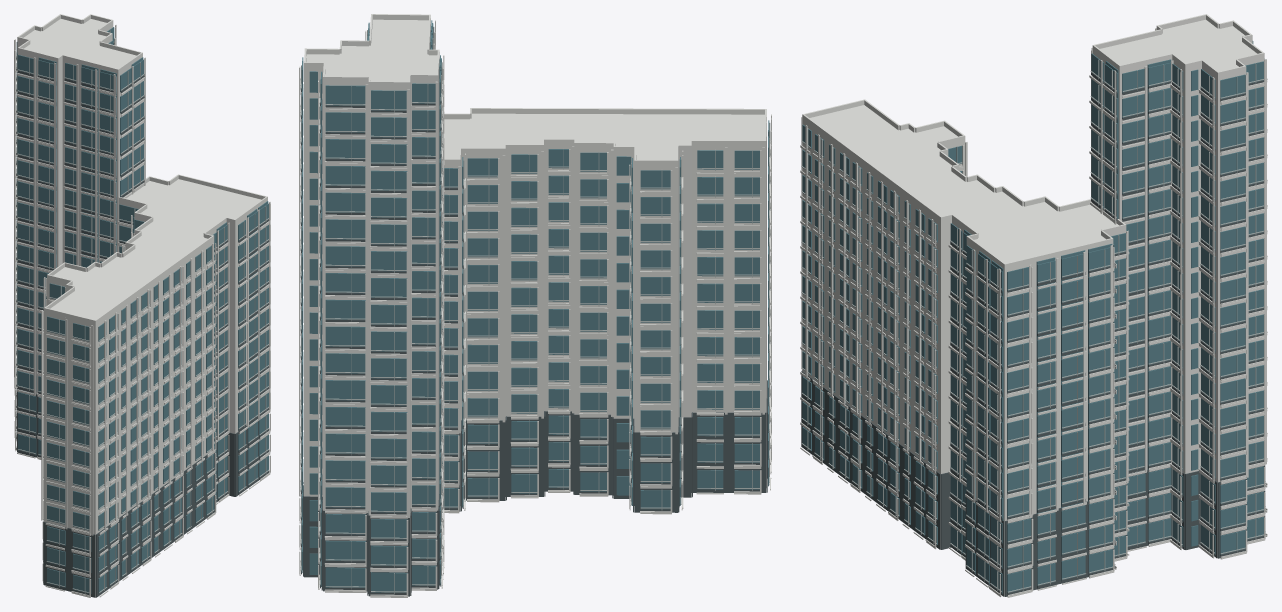
File: bespoke-acro-riverpark-107.glb
3 views of the same model, side by side, from view 1: azimuth 30°, elevation 25°; view 2: azimuth 150°, elevation 25°; view 3: azimuth 270°, elevation 25° (orthographic). The views are drawn at different scales.
Parts seen in each view (by area): view 1: 107_R00_body, 107_R00_glass, 107_R00_dark, 107_R00_frame; view 2: 107_R00_glass, 107_R00_body, 107_R00_dark, 107_R00_frame; view 3: 107_R00_body, 107_R00_glass, 107_R00_dark, 107_R00_frame.
Boxes of the visible parts, x1,y1,x2,y2 form: 107_R00_body: (14,14,270,597); 107_R00_glass: (16,27,268,593); 107_R00_dark: (16,43,269,597); 107_R00_frame: (16,30,269,593); 107_R00_glass: (301,20,769,592); 107_R00_body: (299,14,771,597); 107_R00_dark: (301,88,767,596); 107_R00_frame: (300,26,770,594); 107_R00_body: (800,14,1267,597); 107_R00_glass: (802,41,1263,593); 107_R00_dark: (801,72,1265,596); 107_R00_frame: (801,59,1265,592).
Bounding box in the file's own units: 50.23 × 68 × 59.33.
